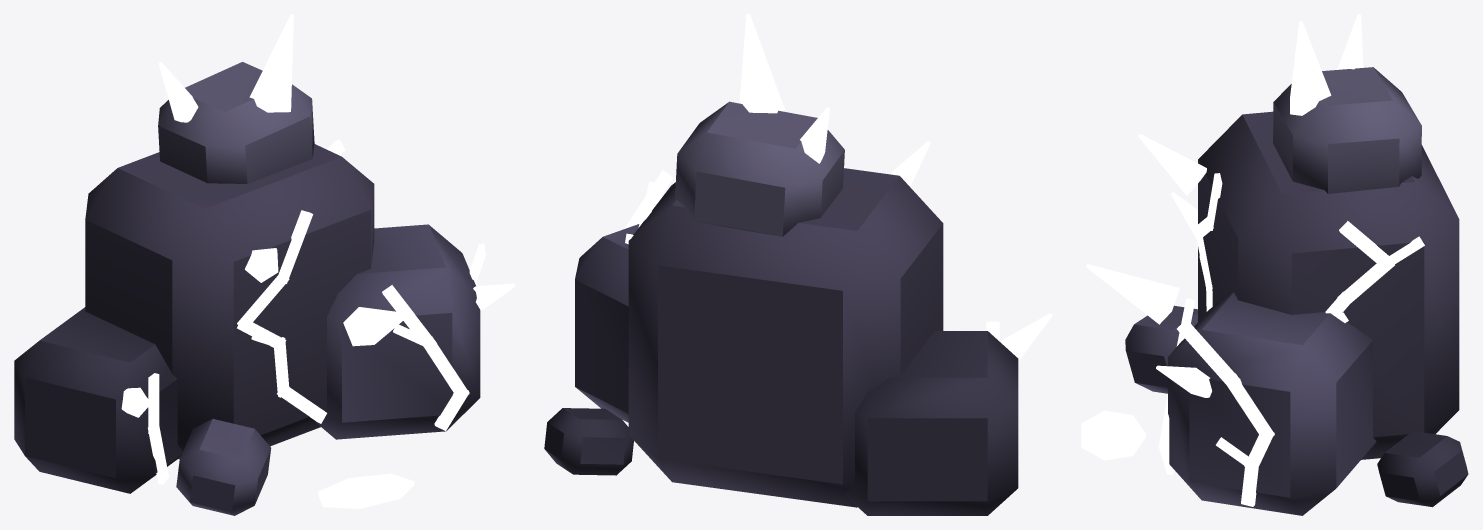
File: n_shard_vein.glb
The picture shows the model from 3 angles, left to right: view 1: azimuth 30°, elevation 25°; view 2: azimuth 150°, elevation 25°; view 3: azimuth 270°, elevation 25°; orthographic projection. The views are drawn at different scales.
Visible parts, largest first — view 1: body, vein_glow; view 2: body, vein_glow; view 3: body, vein_glow.
Boxes of the visible parts, x1,y1,x2,y2 form: body: (14,62,480,515); vein_glow: (121,14,515,508); body: (544,101,1018,515); vein_glow: (624,14,1052,361); body: (1125,67,1468,515); vein_glow: (1081,14,1424,506).
Size of the model in its own units: 2.72 by 2.55 by 2.05.
